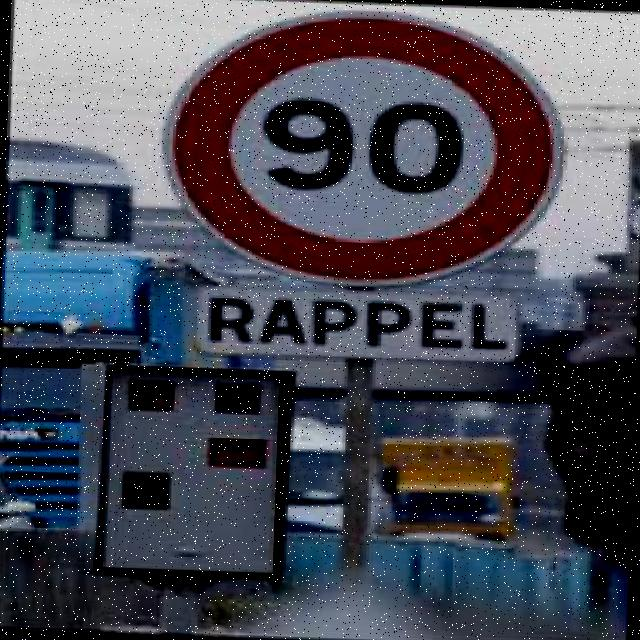Ograniczenie predkosci do 90: (162, 8, 562, 292)
